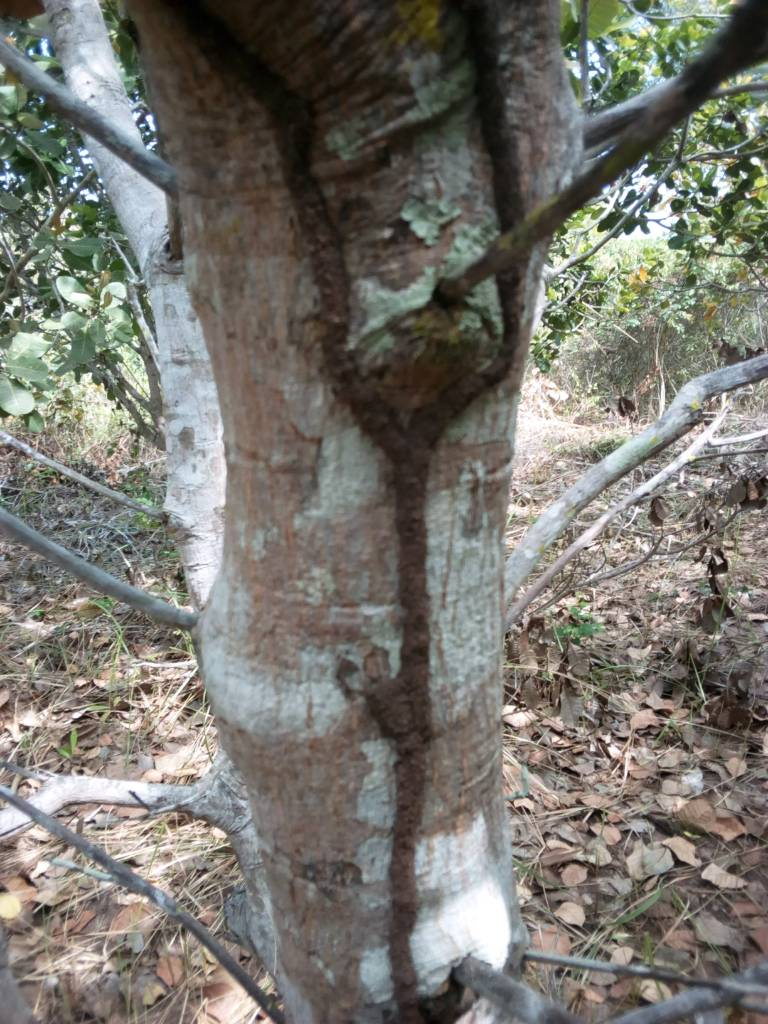Termites: (299, 141, 533, 450), (393, 467, 438, 1011)
